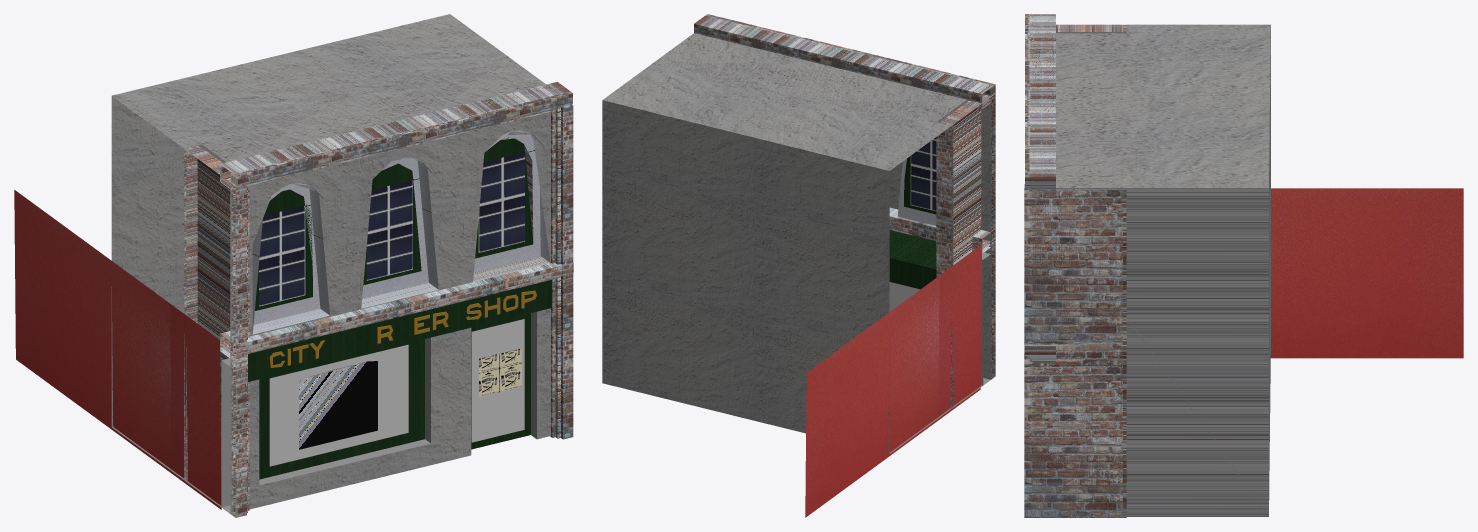
Rendered from Local4.obj.
3 views of the same model, side by side, from view 1: azimuth 30°, elevation 25°; view 2: azimuth 150°, elevation 25°; view 3: azimuth 270°, elevation 25° (orthographic). The views are drawn at different scales.
Visible parts, largest first — view 1: Edificio_5.003; view 2: Edificio_5.003; view 3: Edificio_5.003.
Part boxes in pixels (box(x1,y1,x2,y2)): Edificio_5.003: box(14, 14, 573, 517); Edificio_5.003: box(602, 14, 995, 517); Edificio_5.003: box(1024, 14, 1463, 517).
Bounding box in the file's own units: 37.99 × 37.13 × 43.07.
